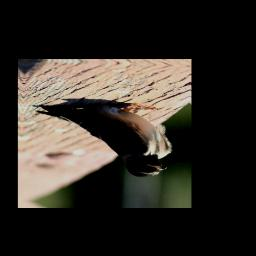Swallow: (31, 98, 175, 179)
